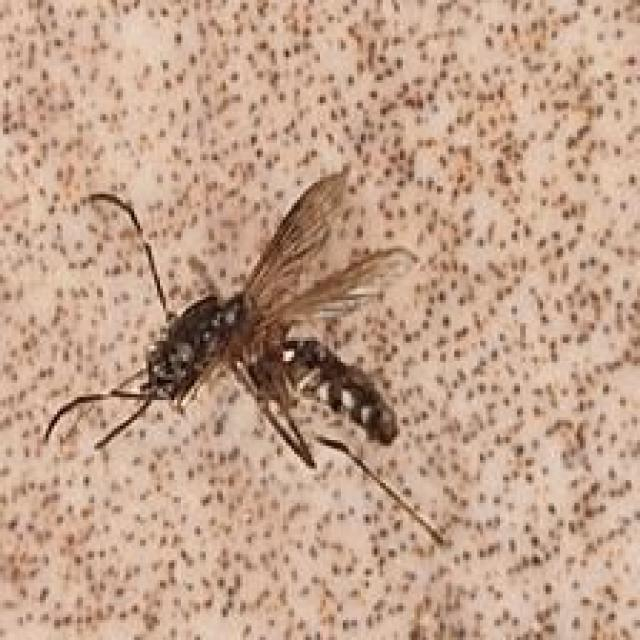Aedes albopictus: (41, 164, 450, 547)
